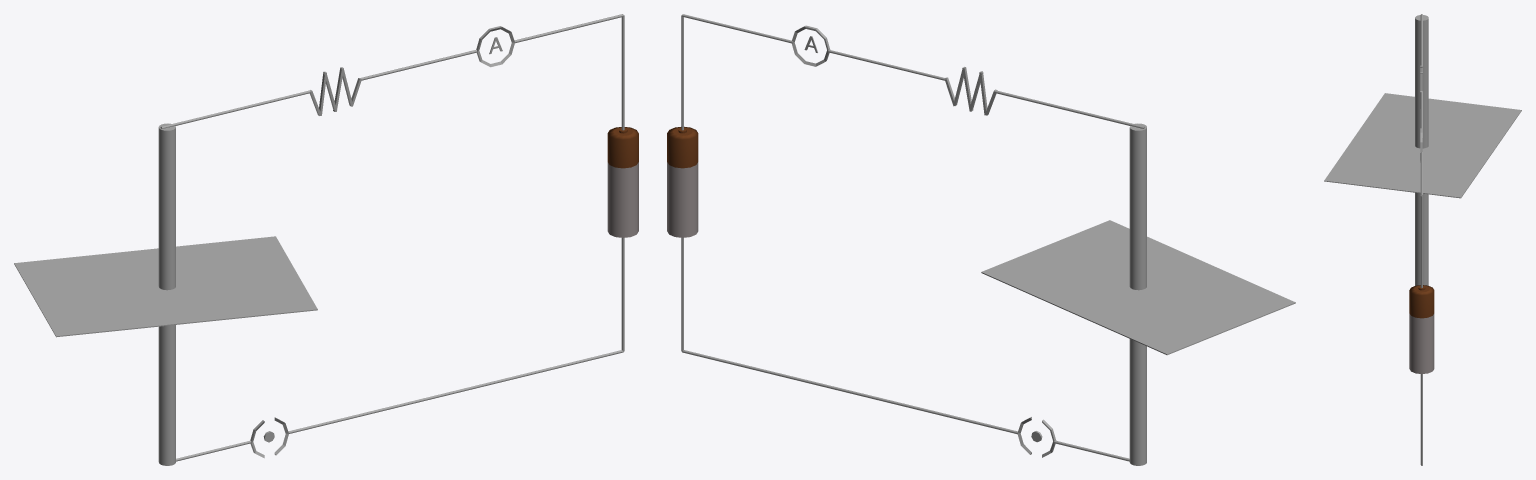
The model's file is Game Level 3.fbx.
The picture shows the model from 3 angles, left to right: view 1: azimuth 30°, elevation 25°; view 2: azimuth 150°, elevation 25°; view 3: azimuth 270°, elevation 25°; orthographic projection. The views are drawn at different scales.
Visible parts, largest first — view 1: Paper_with_fillings, Straight_conductor, Battery, Rheostat, Key, Ammeter, pCylinder7; view 2: Paper_with_fillings, Straight_conductor, Battery, Rheostat, Key, Ammeter, pCylinder7; view 3: Paper_with_fillings, Straight_conductor, Battery, Rheostat, pCylinder2, pCylinder6, Ammeter.
Part boxes in pixels (box(x1,y1,x2,y2)): Paper_with_fillings: box(14, 236, 317, 337); Straight_conductor: box(158, 123, 175, 465); Battery: box(607, 127, 638, 237); Rheostat: box(160, 63, 422, 128); Key: box(176, 393, 447, 461); Ammeter: box(421, 14, 623, 67); pCylinder7: box(444, 350, 623, 395); Paper_with_fillings: box(981, 220, 1295, 355); Straight_conductor: box(1129, 123, 1146, 465); Battery: box(667, 126, 698, 237); Rheostat: box(883, 63, 1144, 128); Key: box(859, 393, 1129, 461); Ammeter: box(682, 14, 884, 66); pCylinder7: box(682, 350, 861, 395); Paper_with_fillings: box(1324, 93, 1521, 198); Straight_conductor: box(1415, 15, 1428, 285); Battery: box(1409, 285, 1434, 373); Rheostat: box(1420, 14, 1422, 116); pCylinder2: box(1420, 195, 1422, 287); pCylinder6: box(1420, 374, 1422, 465); Ammeter: box(1420, 115, 1422, 195).
Bounding box in the file's own units: 723 × 427 × 256.
